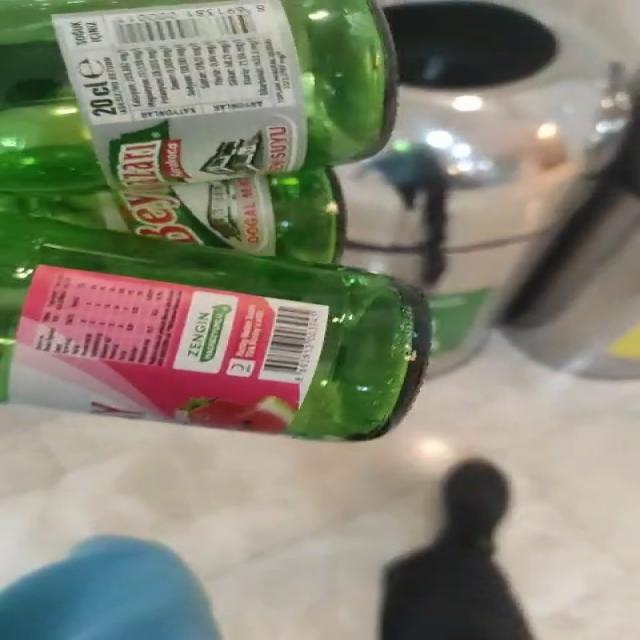glass: (0, 0, 431, 440)
